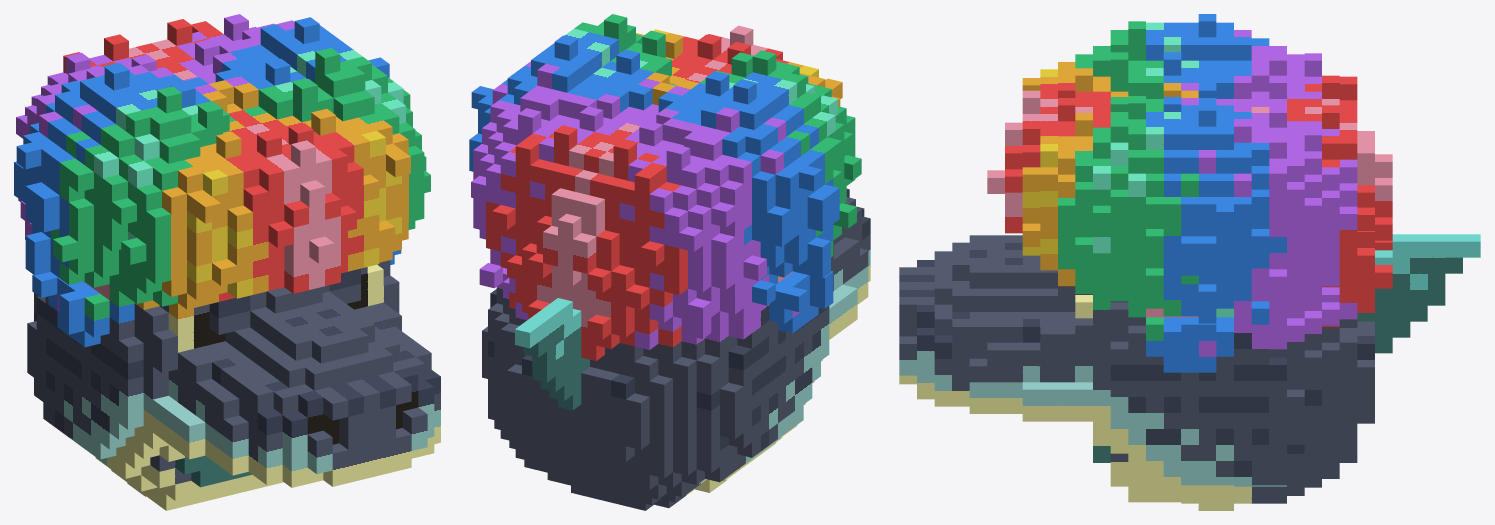
File: clown wig_3d glasses.gltf
The picture shows the model from 3 angles, left to right: view 1: azimuth 30°, elevation 25°; view 2: azimuth 150°, elevation 25°; view 3: azimuth 270°, elevation 25°; orthographic projection. The views are drawn at different scales.
Parts seen in each view (by area): view 1: C07_H_ClownW_CoolD_3DG_RainbowShade-Mesh; view 2: C07_H_ClownW_CoolD_3DG_RainbowShade-Mesh; view 3: C07_H_ClownW_CoolD_3DG_RainbowShade-Mesh.
Part boxes in pixels (<box>): C07_H_ClownW_CoolD_3DG_RainbowShade-Mesh: <box>14,14,440,510</box>; C07_H_ClownW_CoolD_3DG_RainbowShade-Mesh: <box>469,14,870,510</box>; C07_H_ClownW_CoolD_3DG_RainbowShade-Mesh: <box>899,14,1480,510</box>.
Bounding box in the file's own units: 23 × 26 × 33.
Materials: 1 (1 with a texture image).
